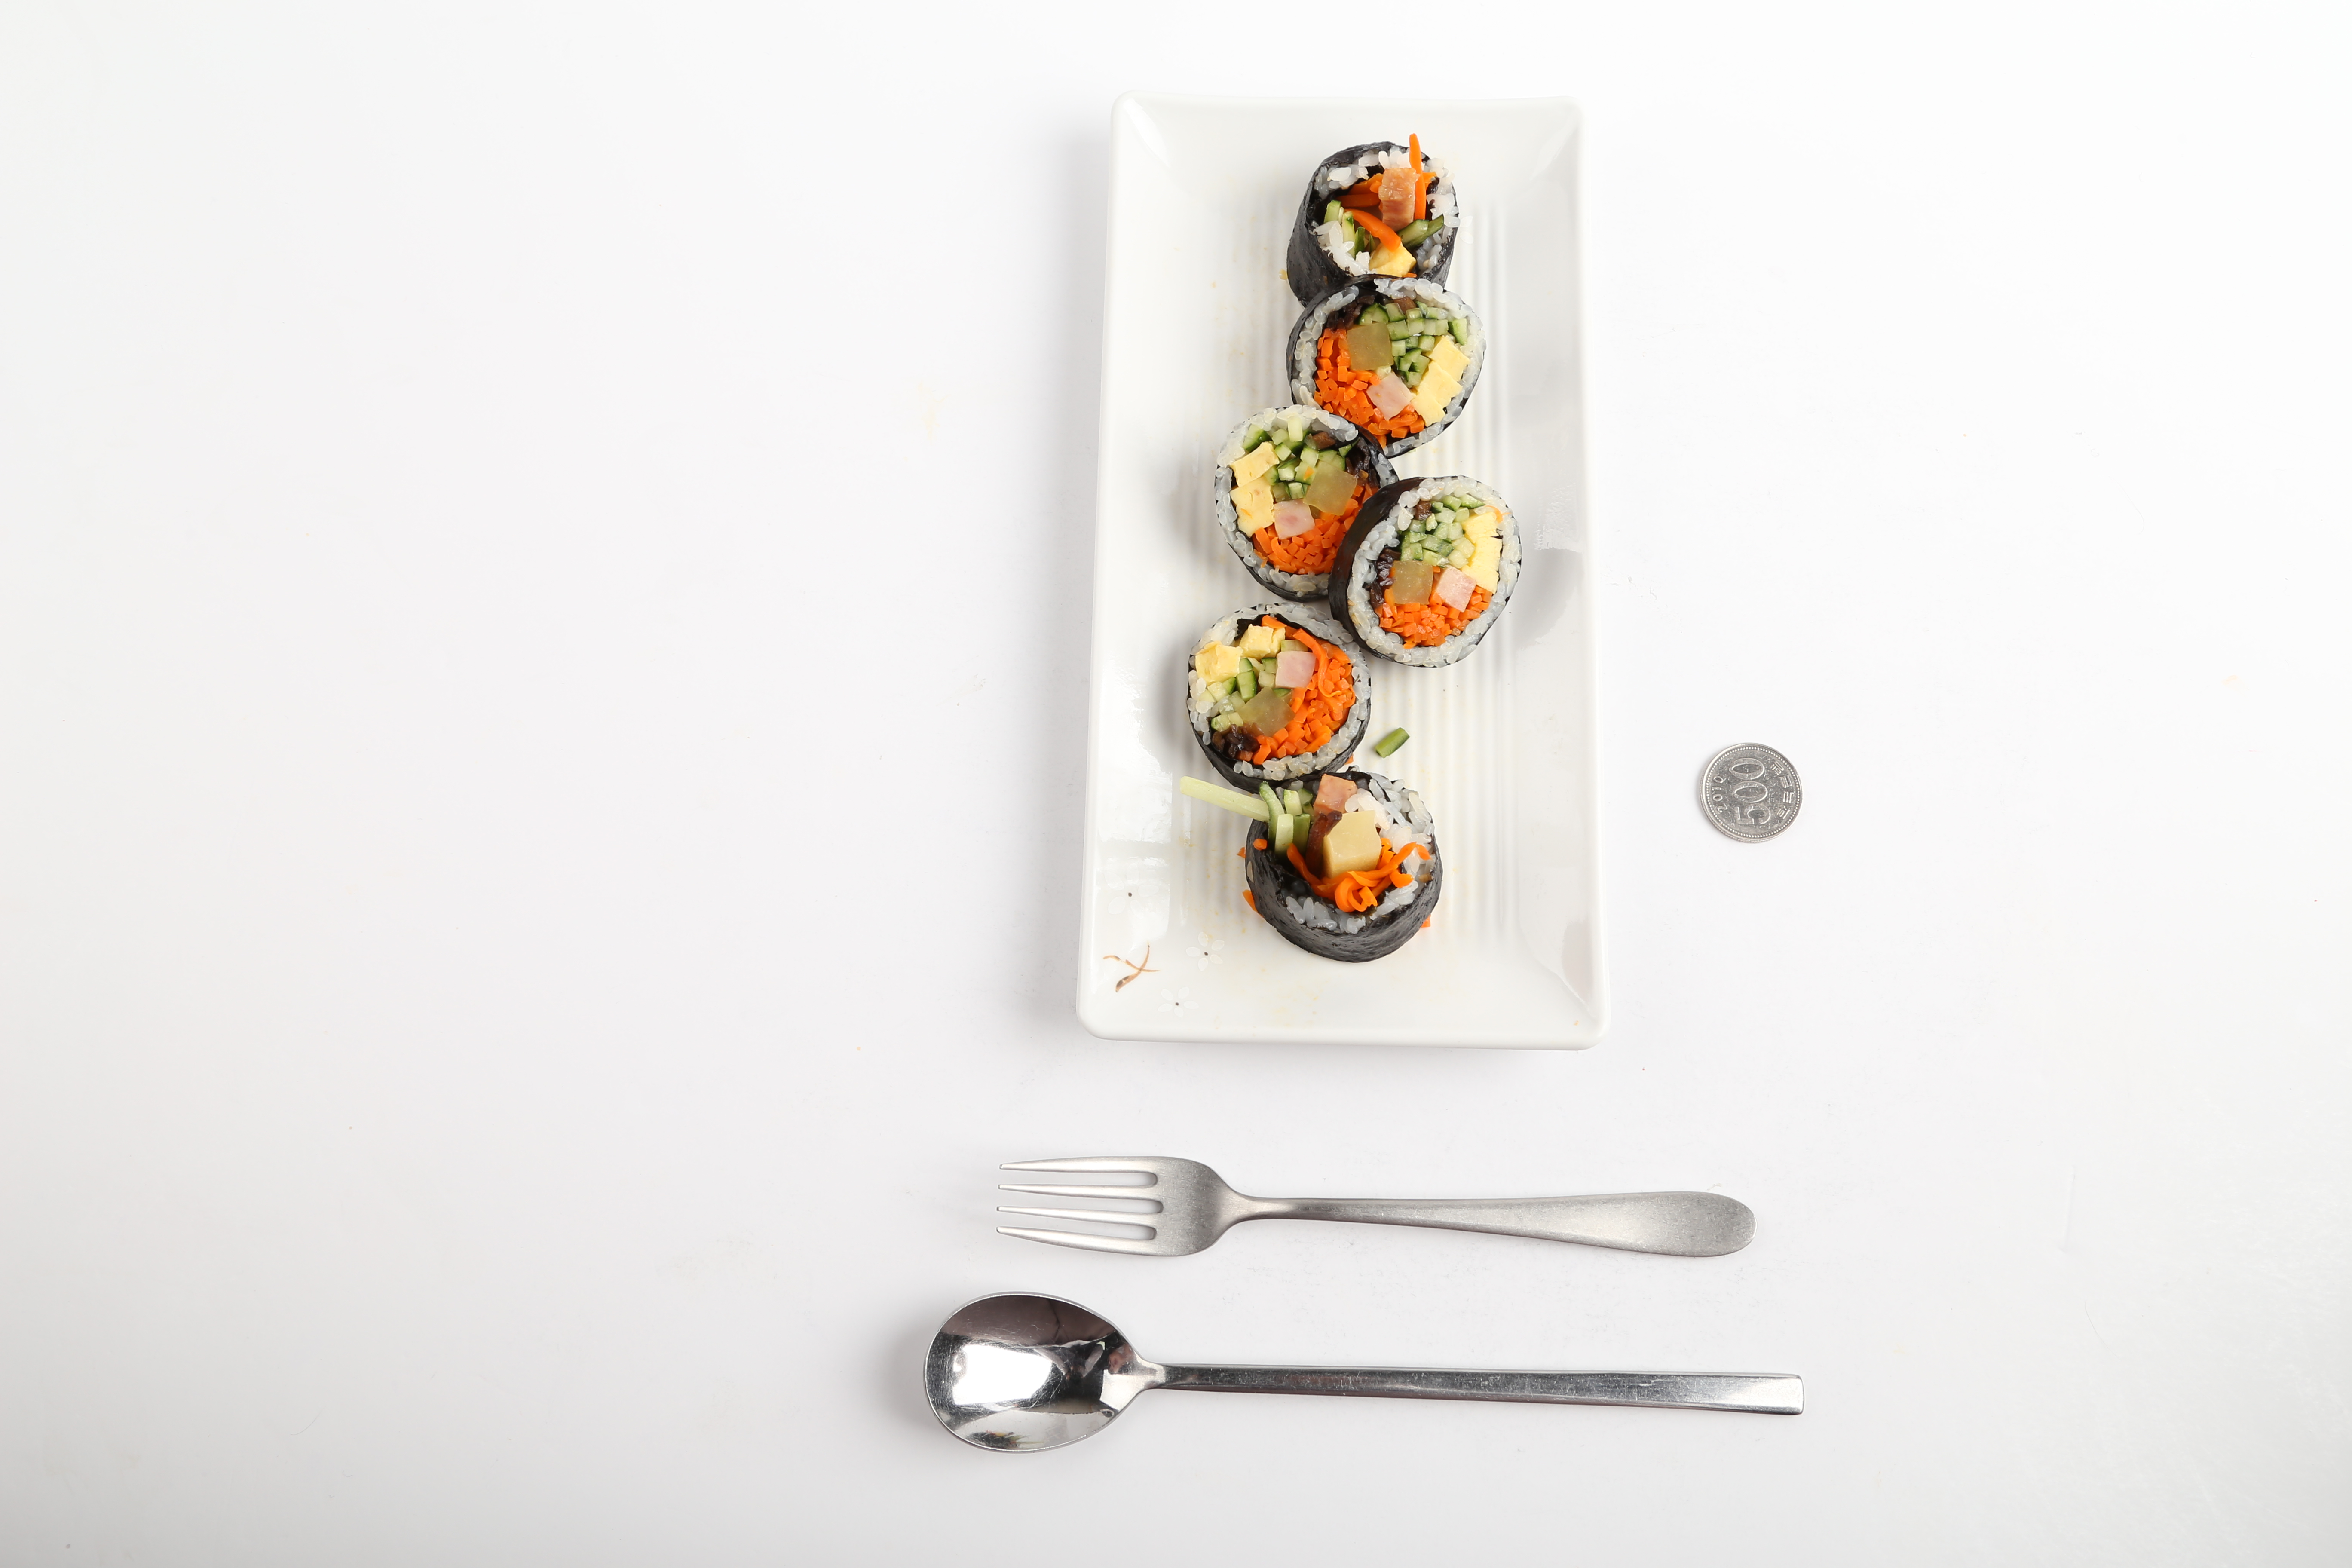dish: (1071, 84, 1612, 1053)
ref_coin: (1694, 738, 1804, 847)
ref_fork: (990, 1150, 1286, 1260)
ref_spoon: (919, 1291, 1202, 1459)
김밥: (1185, 138, 1519, 968)
